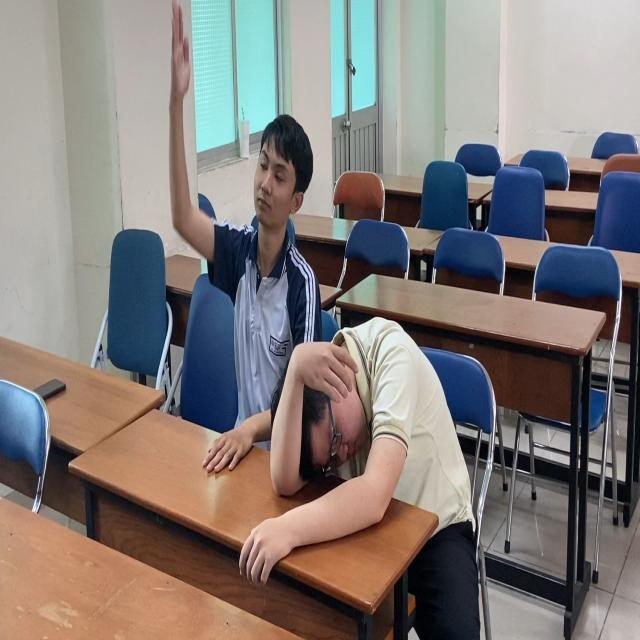raise_hand: (165, 6, 313, 513)
sleep: (259, 312, 463, 542)
